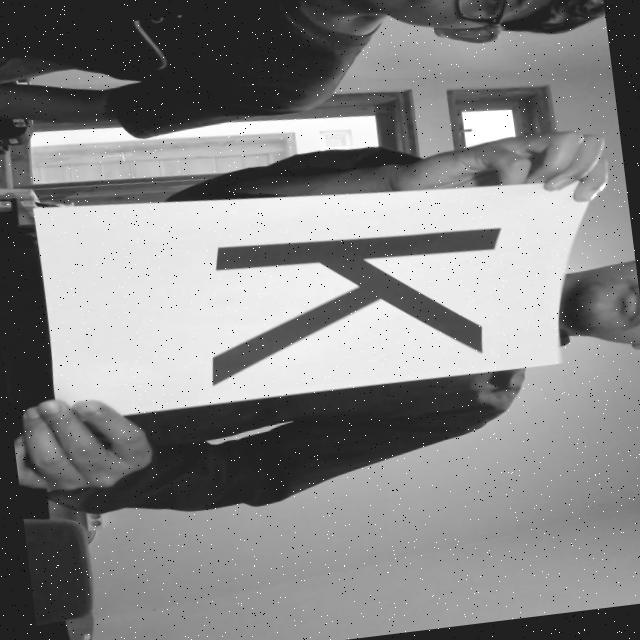k: (160, 205, 534, 402)
